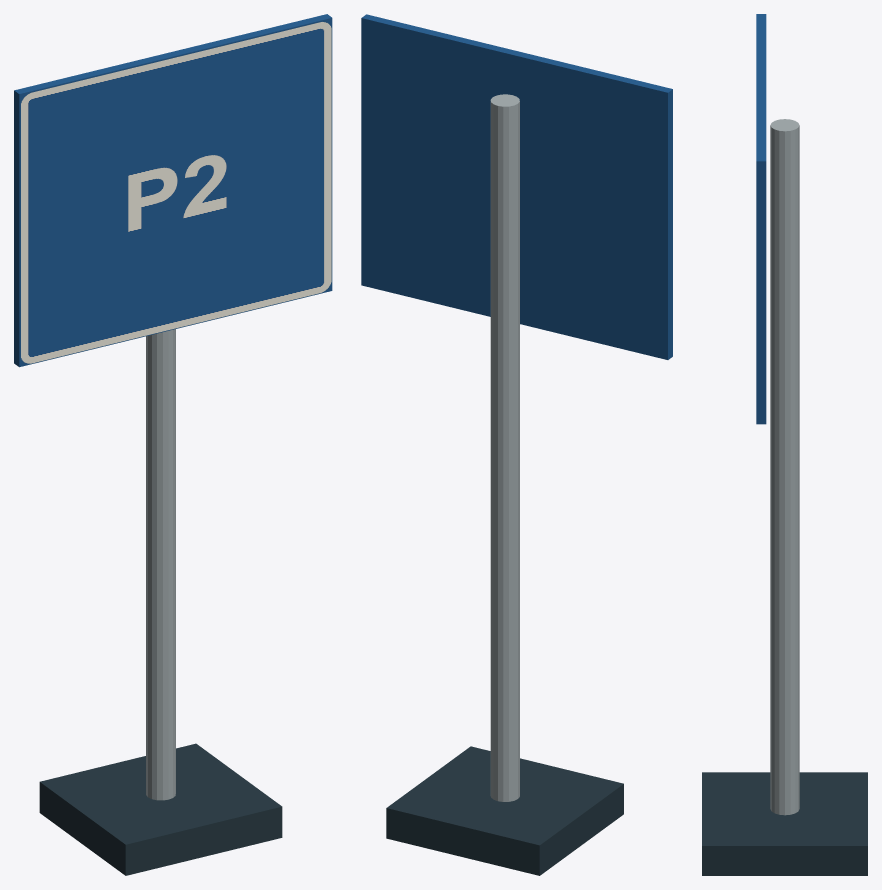
Rendered from scendance-plan-p2.glb.
The picture shows the model from 3 angles, left to right: view 1: azimuth 30°, elevation 25°; view 2: azimuth 150°, elevation 25°; view 3: azimuth 270°, elevation 25°; orthographic projection. The views are drawn at different scales.
Bounding box in the file's own units: 0.84 × 2 × 0.4.
Materials: 4 (1 with a texture image).
